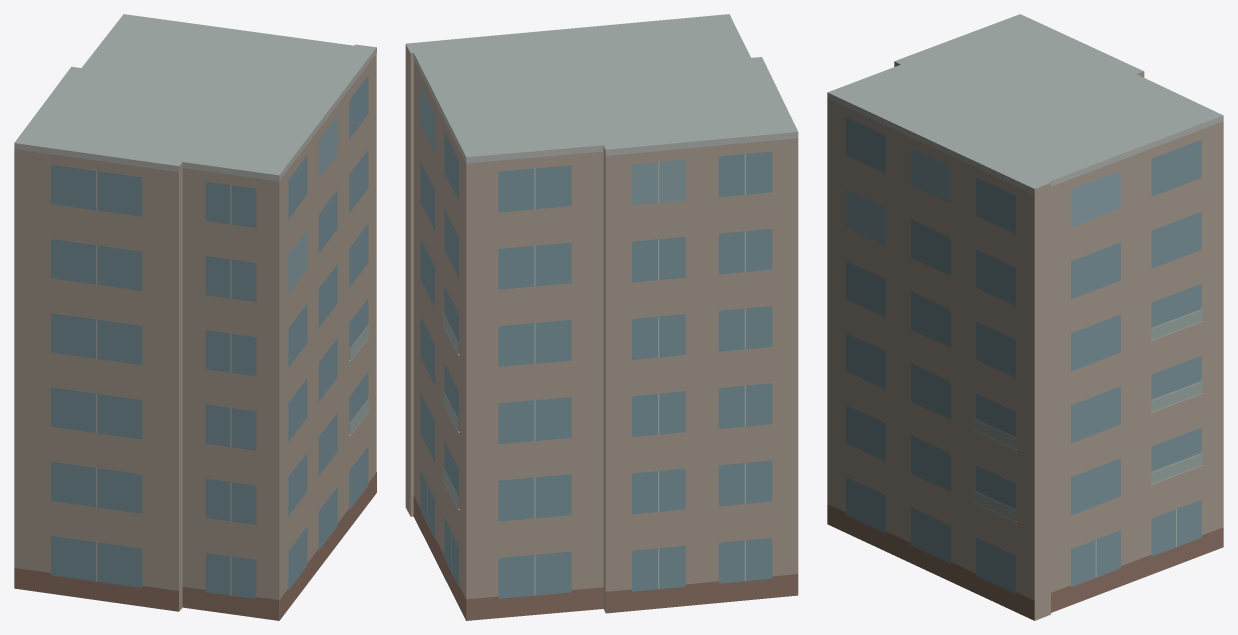
The model's file is survey-upis-32948528.glb.
3 renders of one model, left to right at view 1: azimuth 30°, elevation 25°; view 2: azimuth 150°, elevation 25°; view 3: azimuth 270°, elevation 25°, orthographic. The views are drawn at different scales.
Visible parts, largest first — view 1: survey-upis-32948528.tmp; view 2: survey-upis-32948528.tmp; view 3: survey-upis-32948528.tmp.
Part boxes in pixels (<box>): survey-upis-32948528.tmp: <box>14,14,376,620</box>; survey-upis-32948528.tmp: <box>405,14,798,620</box>; survey-upis-32948528.tmp: <box>827,14,1223,620</box>.
Bounding box in the file's own units: 15.83 × 18.2 × 15.13.
